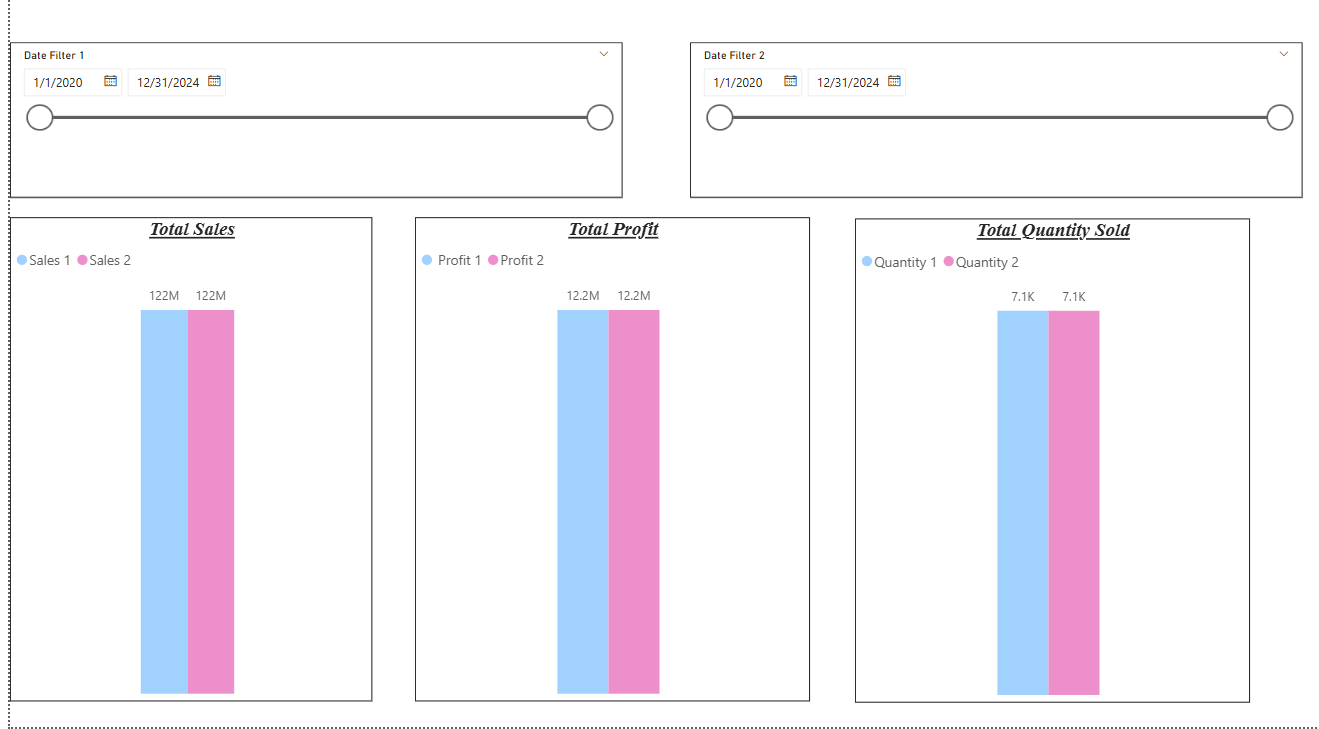

The dashboard page shown, as its layout file describes it:
{"tool":"powerbi","page":{"name":"Requirement","canvas":[1280,720],"ordinal":2},"visuals":[{"type":"slicer","fields":{"Values":["Date Table 1.Date"]},"box":[0,50.1,599.2,151.6],"z":0},{"type":"slicer","fields":{"Values":["Date Table 2.Date"]},"box":[665.2,50.1,599.2,151.6],"z":1000},{"type":"clusteredColumnChart","title":"Total Sales","fields":{"Y":["Sum(Fact Table.Net Sales.1)","Date Table 1.Sum of Net Sales"]},"box":[0,221.3,354.6,473.2],"z":2000},{"type":"clusteredColumnChart","title":"Total Profit","fields":{"Y":["Sum(Fact Table.Profit)","Measures Table.Total Profit"]},"box":[396.2,221.3,386.4,473.2],"z":3000},{"type":"clusteredColumnChart","title":"Total Quantity Sold","fields":{"Y":["Sum(Fact Table.Units Sold)","Measures Table.Quantity Sold"]},"box":[826.6,222.6,386.4,473.2],"z":4000}]}

Visuals, with their boxes in screenshot pixels (x1, y1, x2, y2), scaled from the page's 1280x720 canvas onto the 1319x729 screenshot:
slicer - Date Table 1.Date: 0/51/617/204
slicer - Date Table 2.Date: 685/51/1303/204
"Total Sales" clusteredColumnChart: 0/224/365/703
"Total Profit" clusteredColumnChart: 408/224/806/703
"Total Quantity Sold" clusteredColumnChart: 852/225/1250/704
